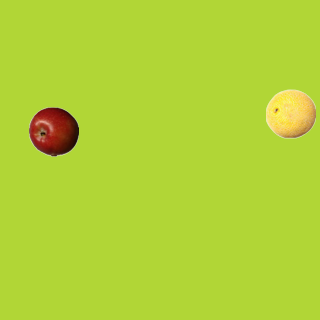Apple Braeburn: (28, 106, 78, 156)
Cantaloupe 1: (265, 88, 315, 138)
